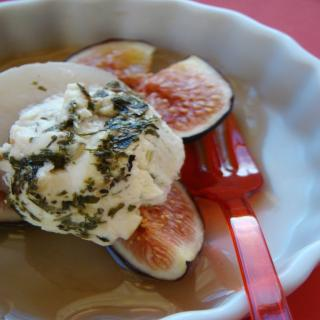Cheese: (0, 82, 187, 246)
